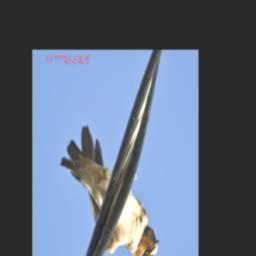Swallow: (59, 124, 161, 256)
